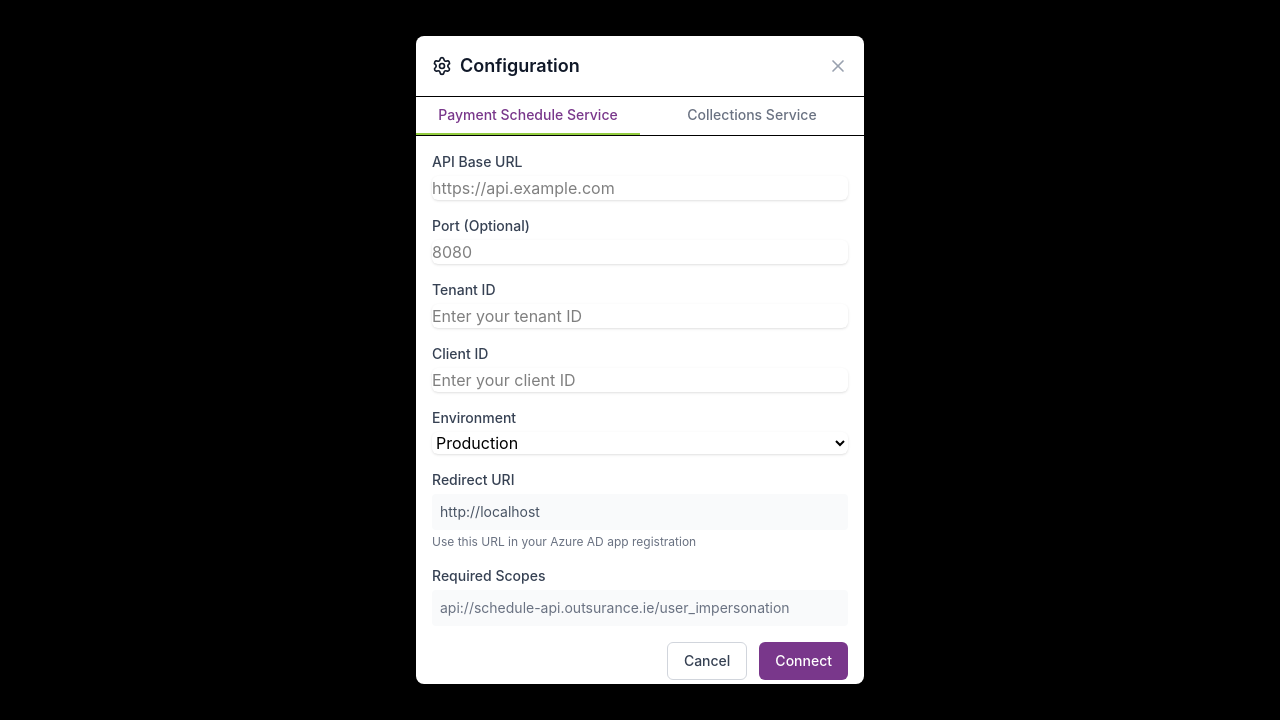
Scenario: ConfigDialog — Collections Service tab › explains invalid settings instead of saving them
The width and height of the screenshot is (1280, 720).
Click the tab "Collections Service". click: (752, 116)
box: 640,97 -> 864,135
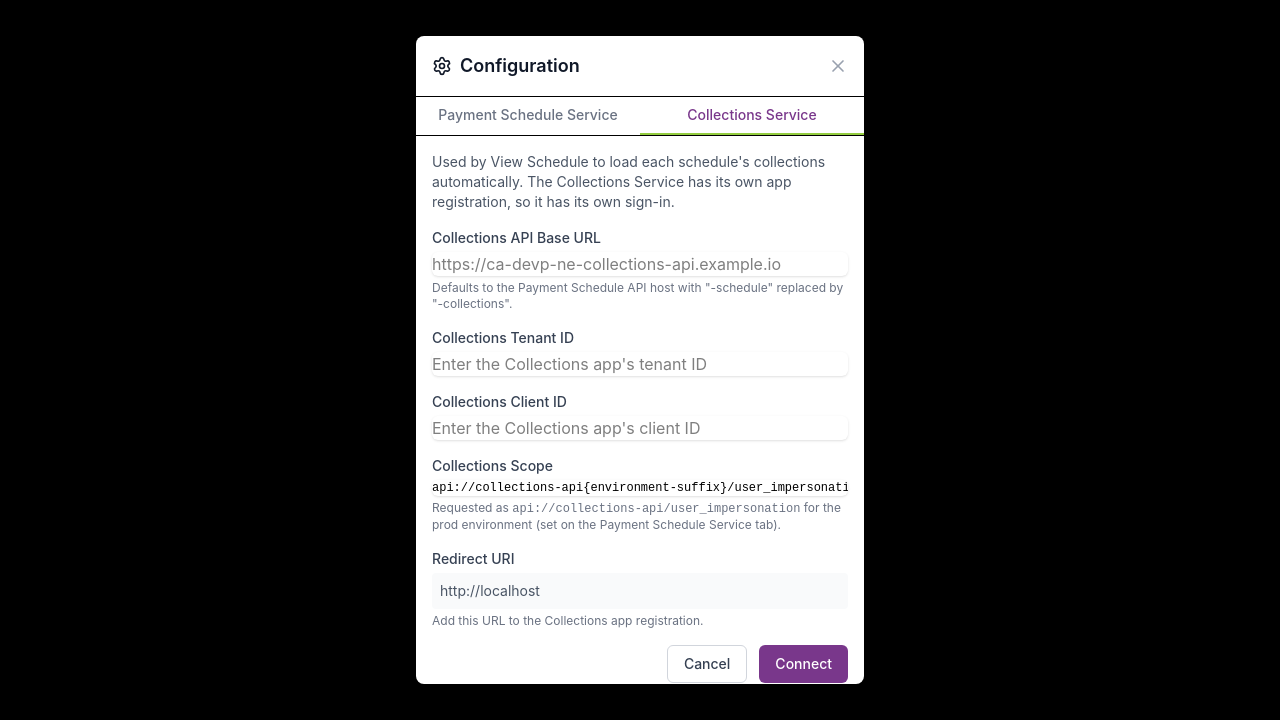
Type "https://collections.example.io" into the field labelled "Collections API Base URL". click: (640, 264)
box: 432,252 -> 848,276
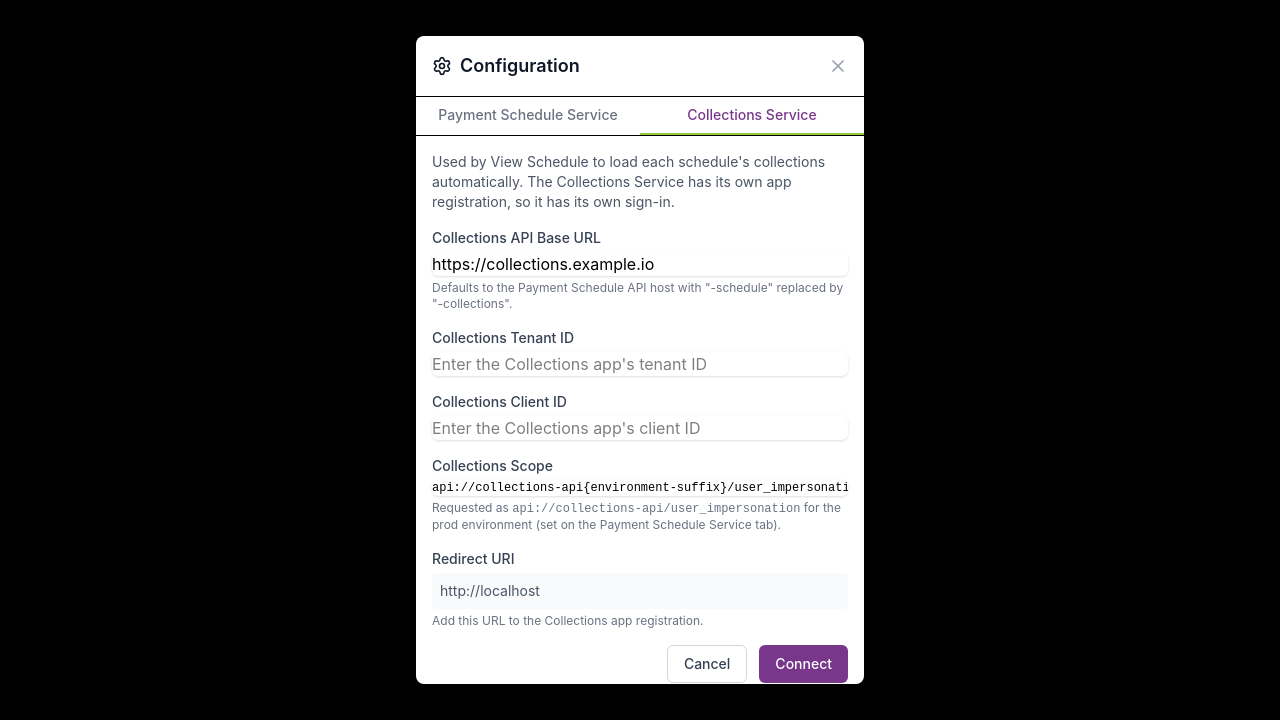
Type "../evil" into the field labelled "Collections Tenant ID". click: (640, 364)
box: 432,352 -> 848,376
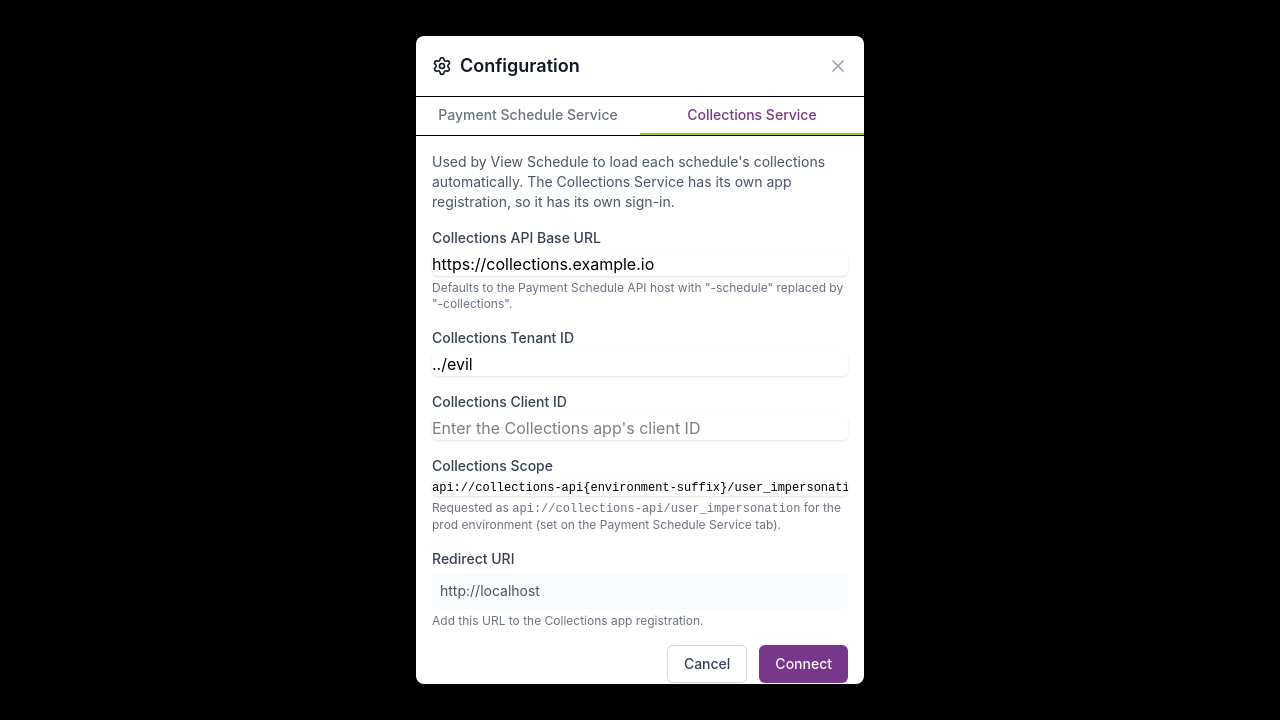
Type "client" into the field labelled "Collections Client ID". click: (640, 428)
box: 432,416 -> 848,440
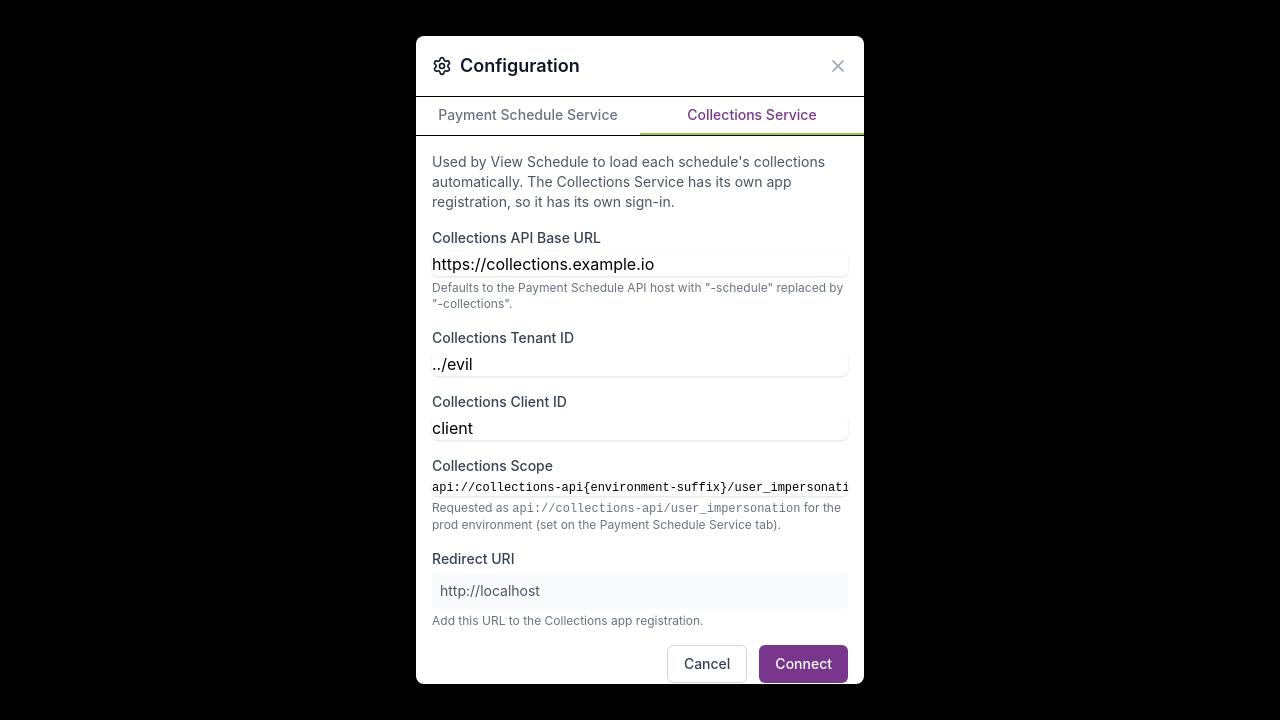
Click the button "Connect". click: (804, 664)
box: 759,645 -> 848,683
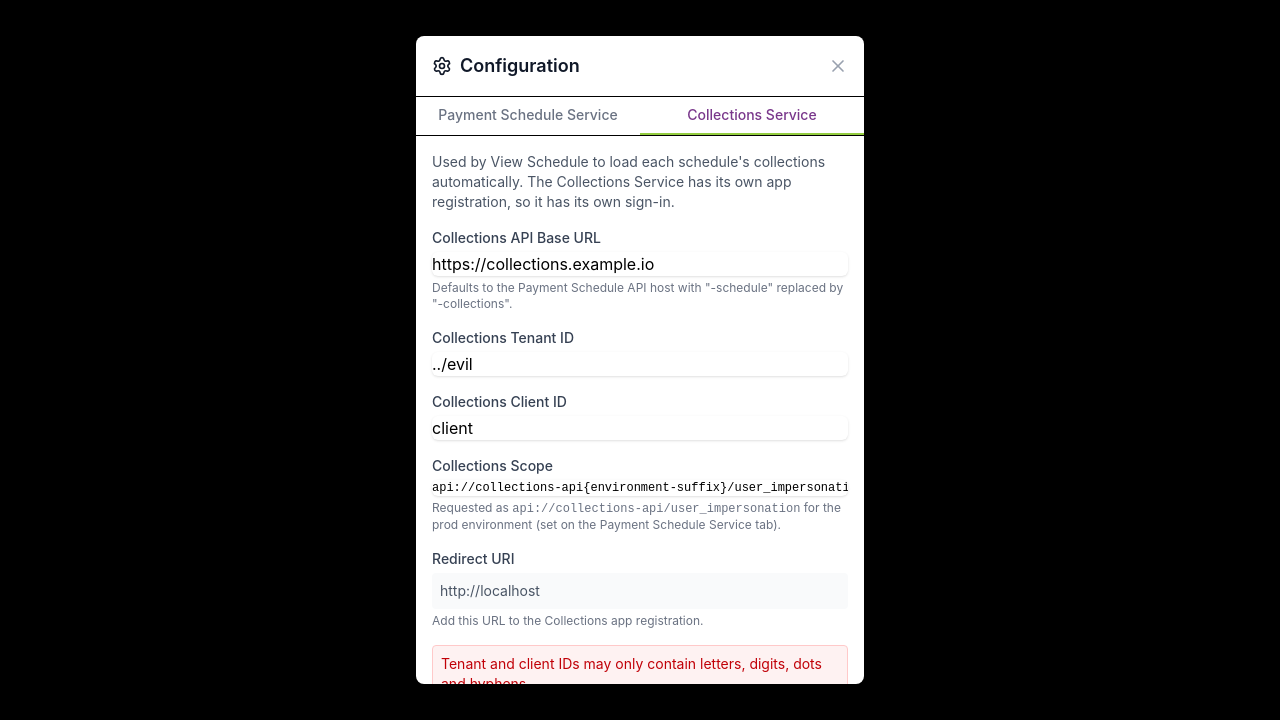
expect the message shows "Tenant and client IDs may only contain": met, box 441,655 -> 822,684
